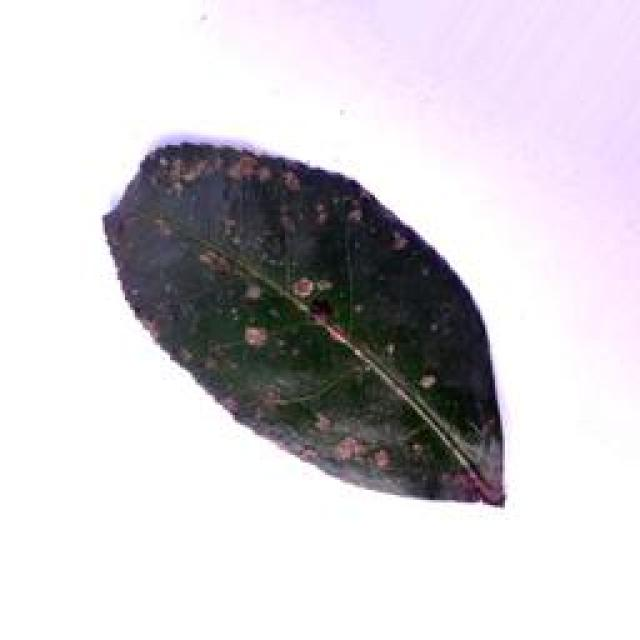Algal Leaf Spot: (97, 132, 537, 536)
